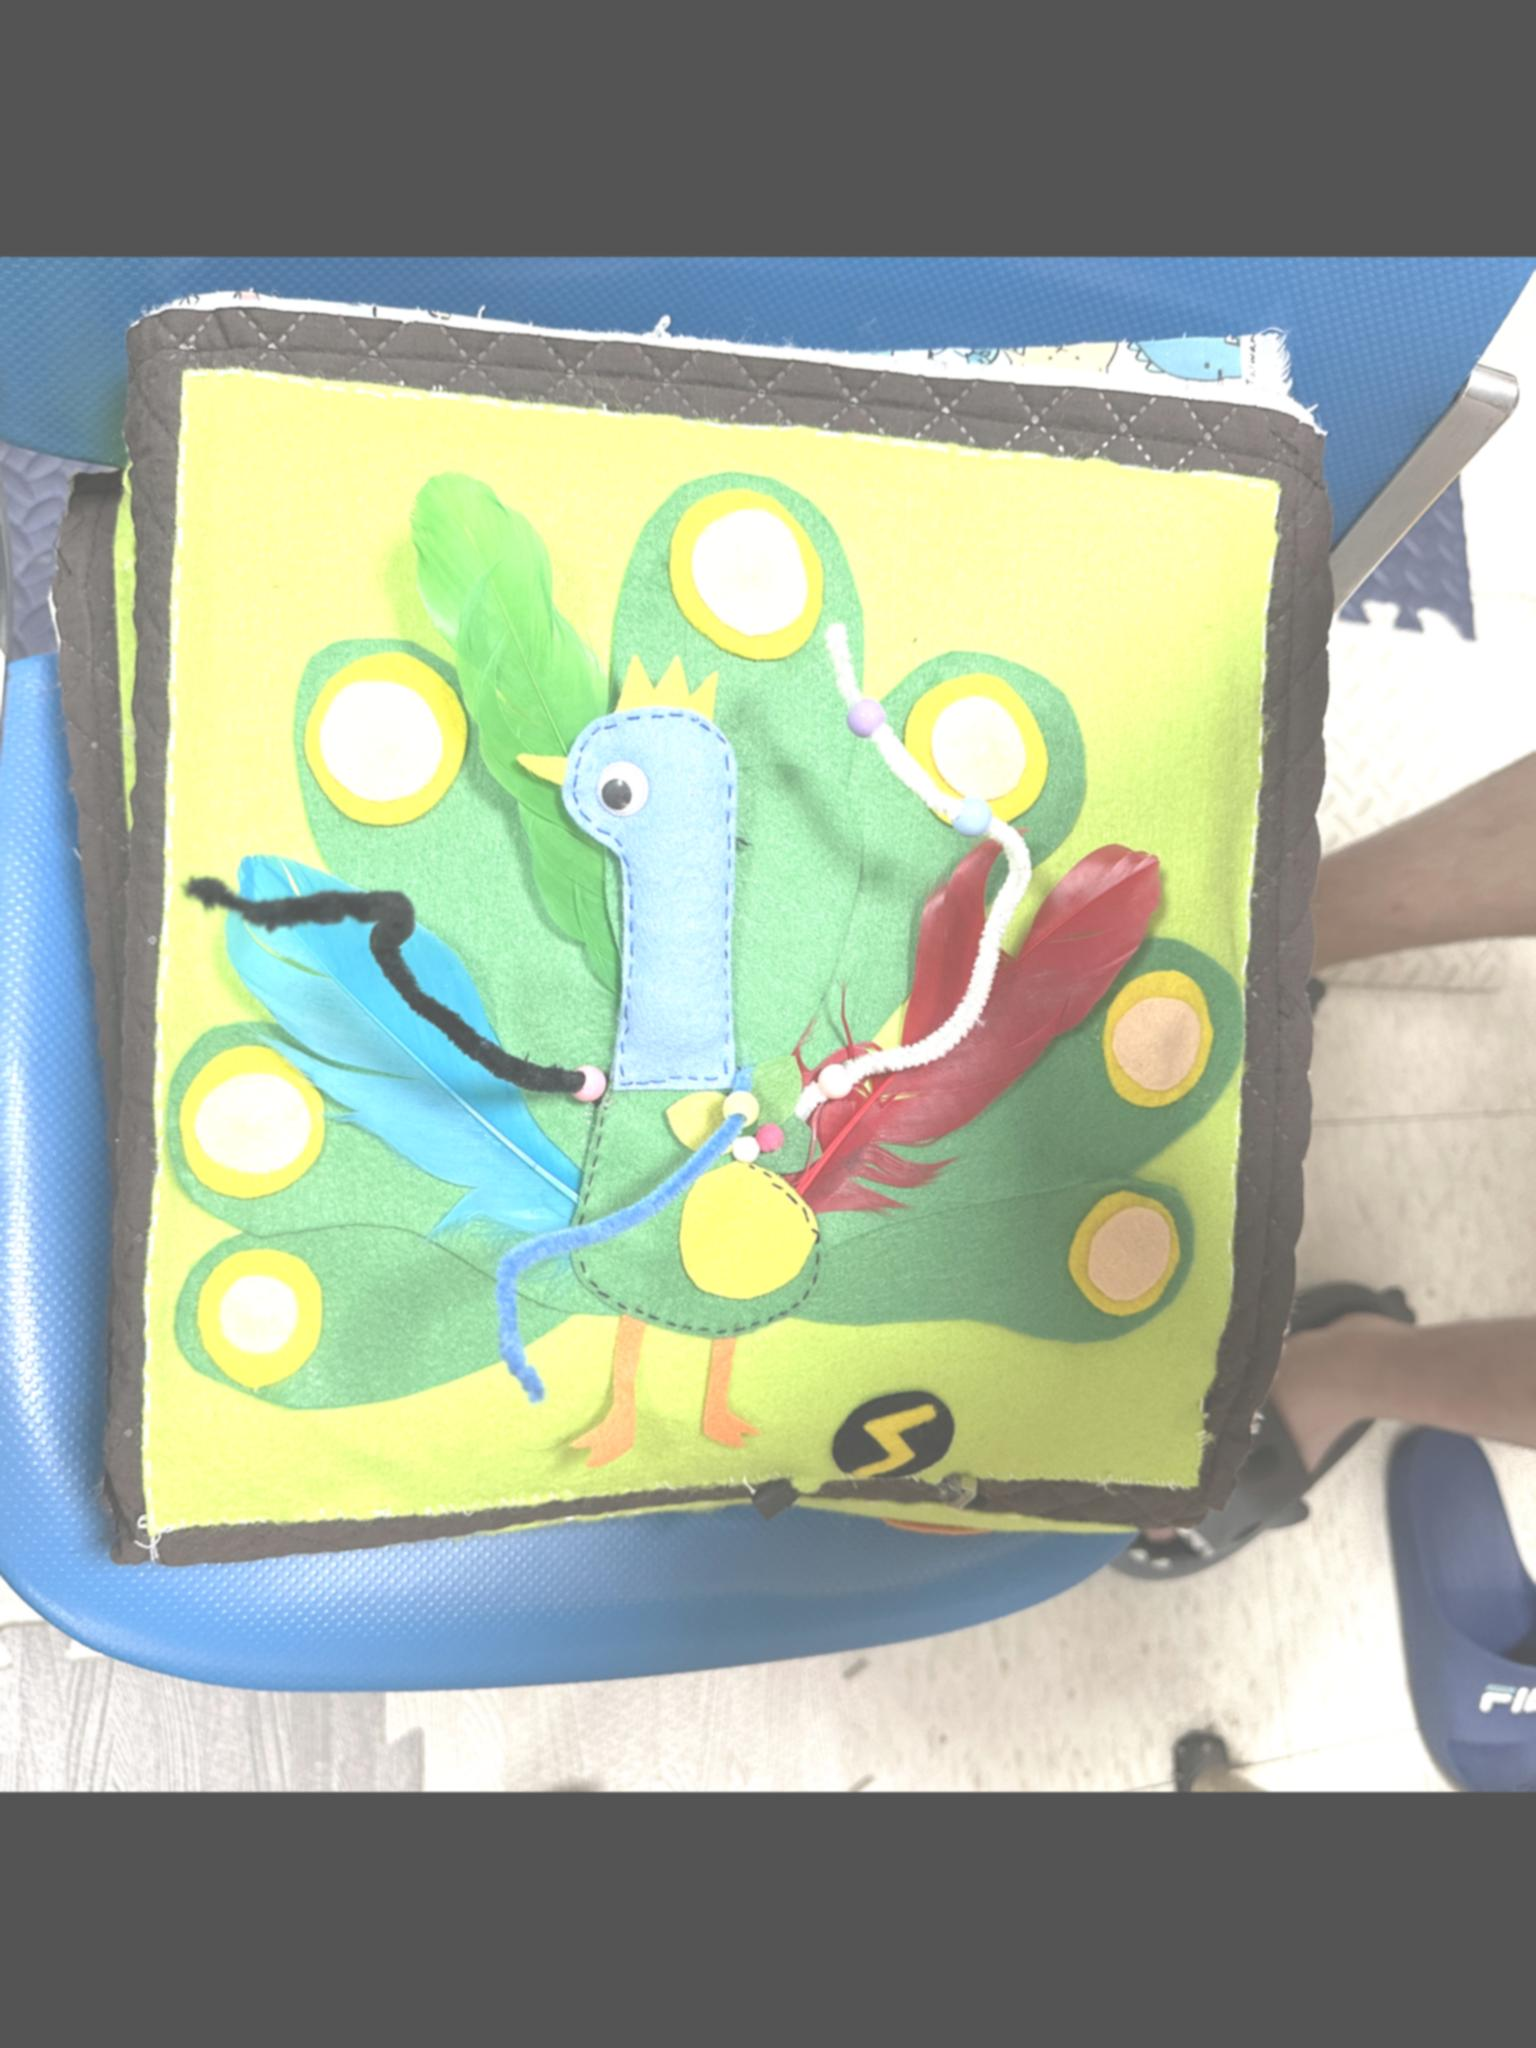bead: (834, 687, 897, 755), (947, 792, 1005, 845), (561, 1059, 620, 1111), (818, 1056, 857, 1119), (718, 1085, 762, 1140)
